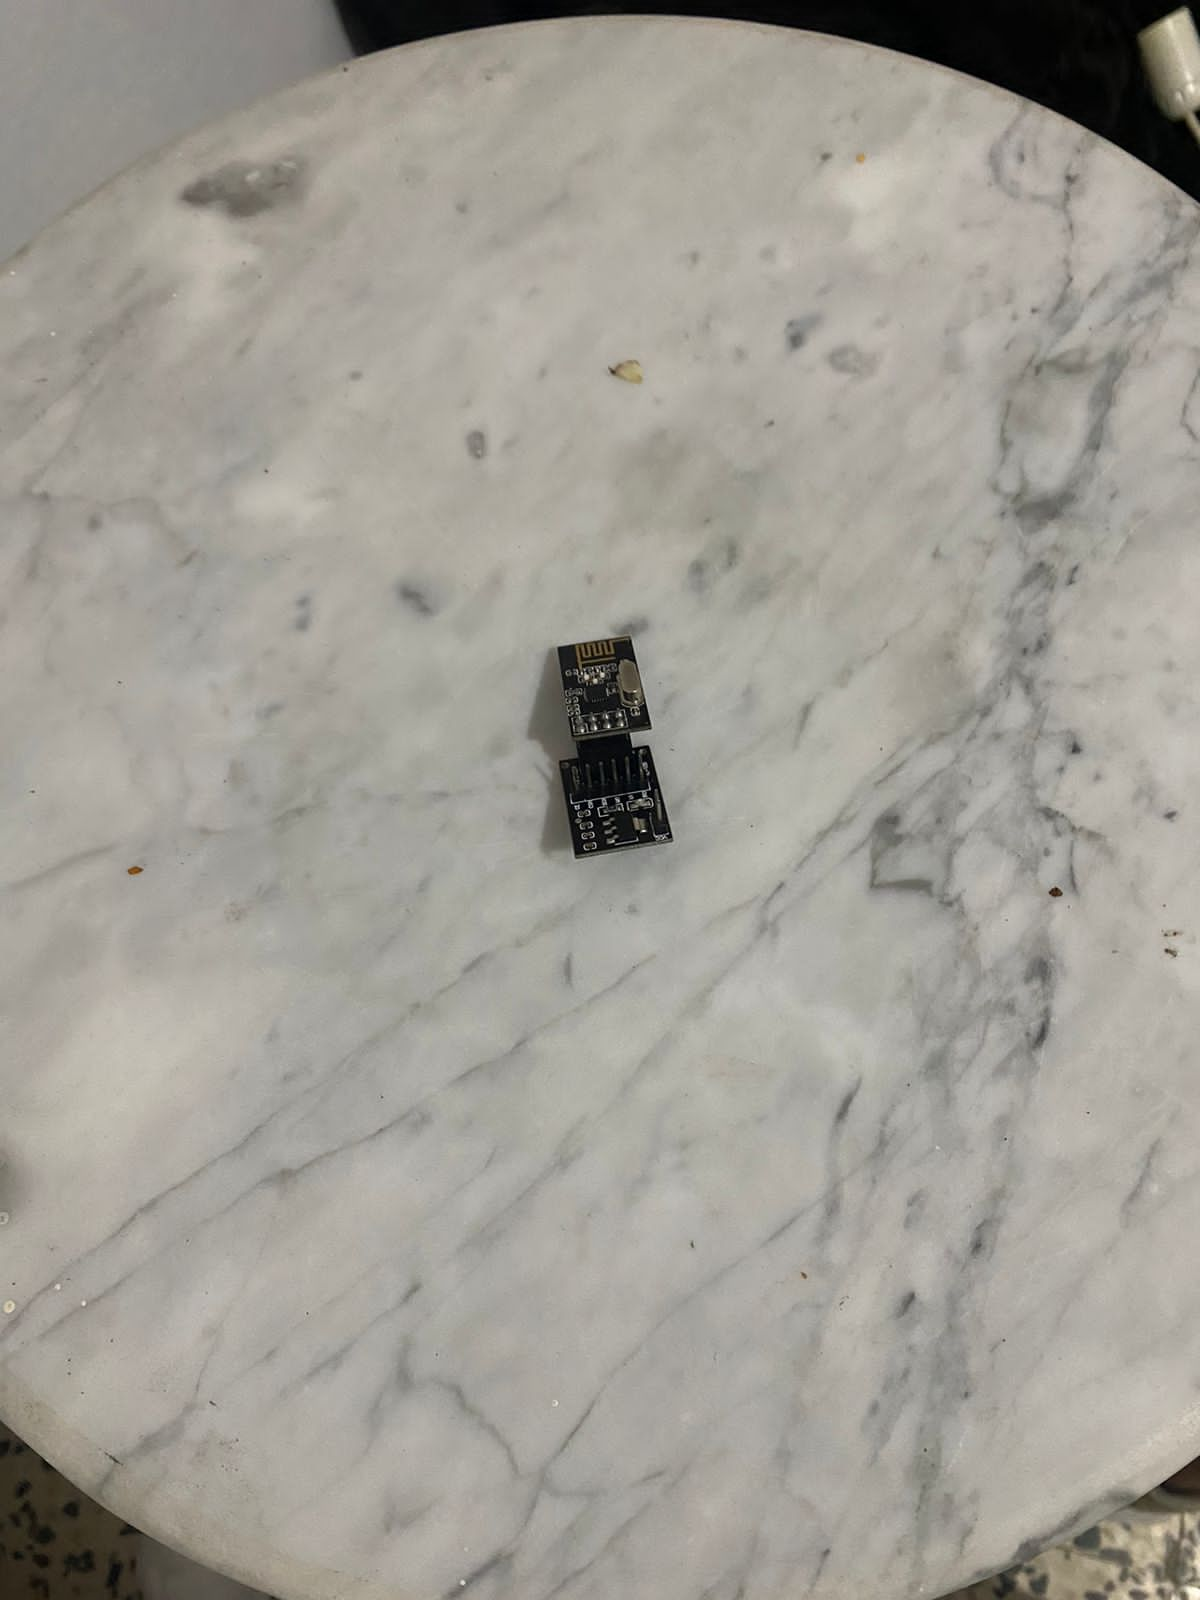RF-module: (537, 640, 695, 864)
